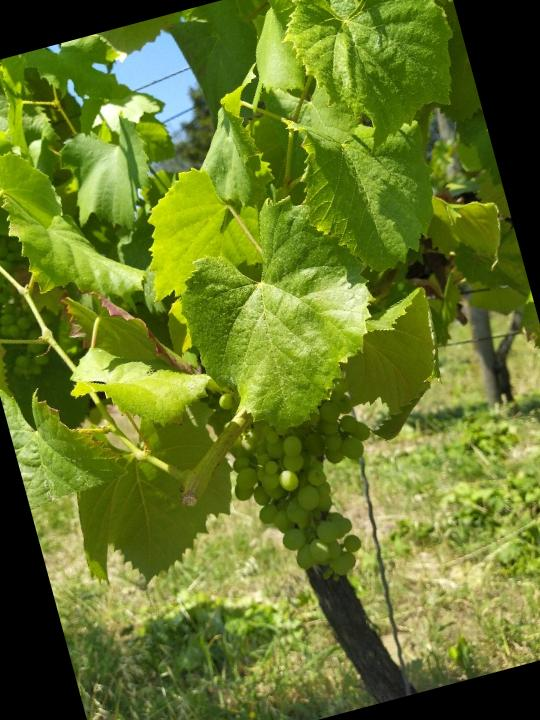grape: (207, 354, 412, 609)
